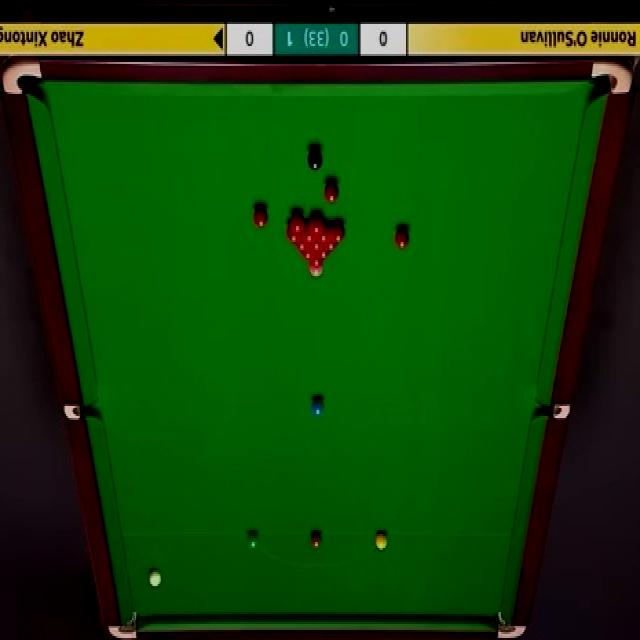pocket: (3, 57, 43, 98), (589, 62, 634, 98), (495, 606, 529, 640), (108, 608, 141, 640), (64, 403, 100, 422), (537, 401, 570, 417)
